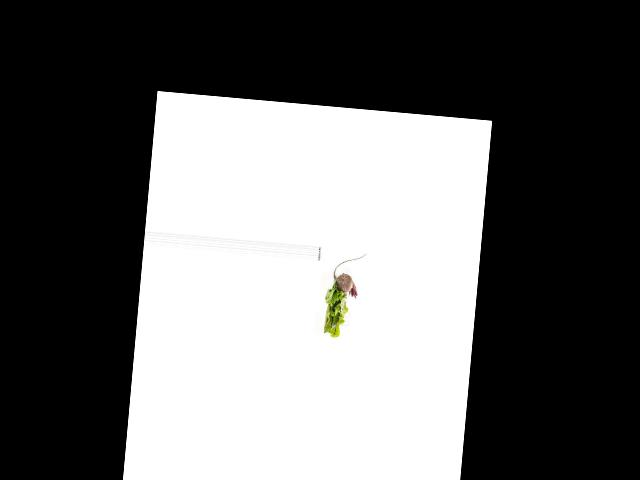beet: (331, 249, 366, 299)
